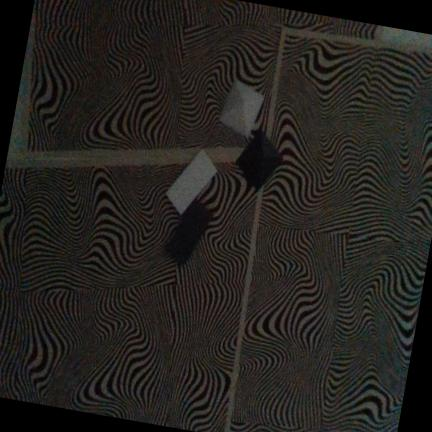Paralelepipedo: (164, 199, 214, 269), (166, 149, 217, 215)
Piramide: (218, 79, 265, 138), (236, 131, 282, 191)
